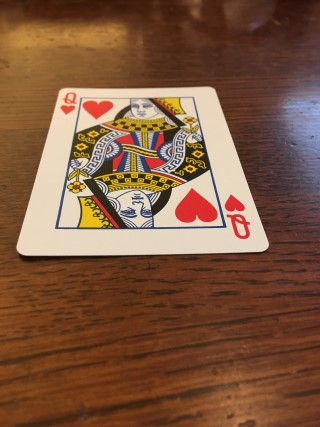QueenOfHearts: (16, 86, 270, 257)
